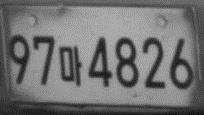2: (141, 36, 165, 88)
4: (87, 36, 113, 87)
6: (169, 37, 194, 90)
7: (32, 35, 55, 86)
8: (114, 37, 139, 87)
9: (8, 34, 30, 84)
마: (58, 45, 82, 87)
